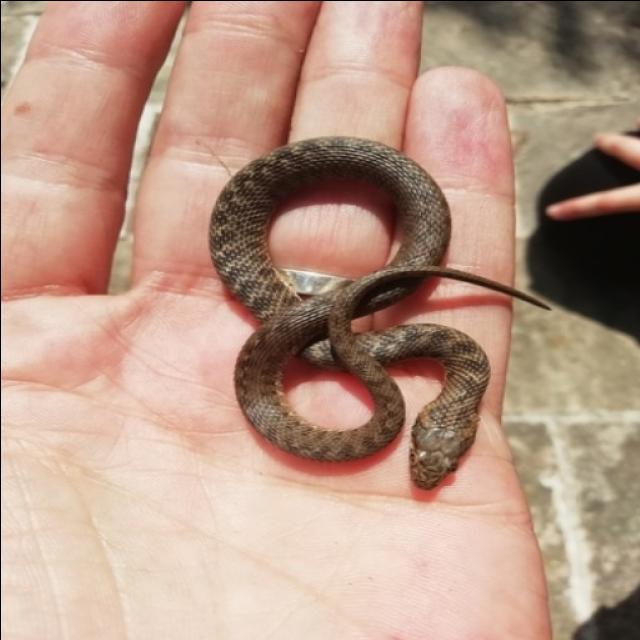snake: (185, 128, 564, 496)
